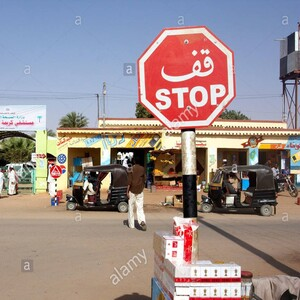stop: (135, 27, 236, 128)
